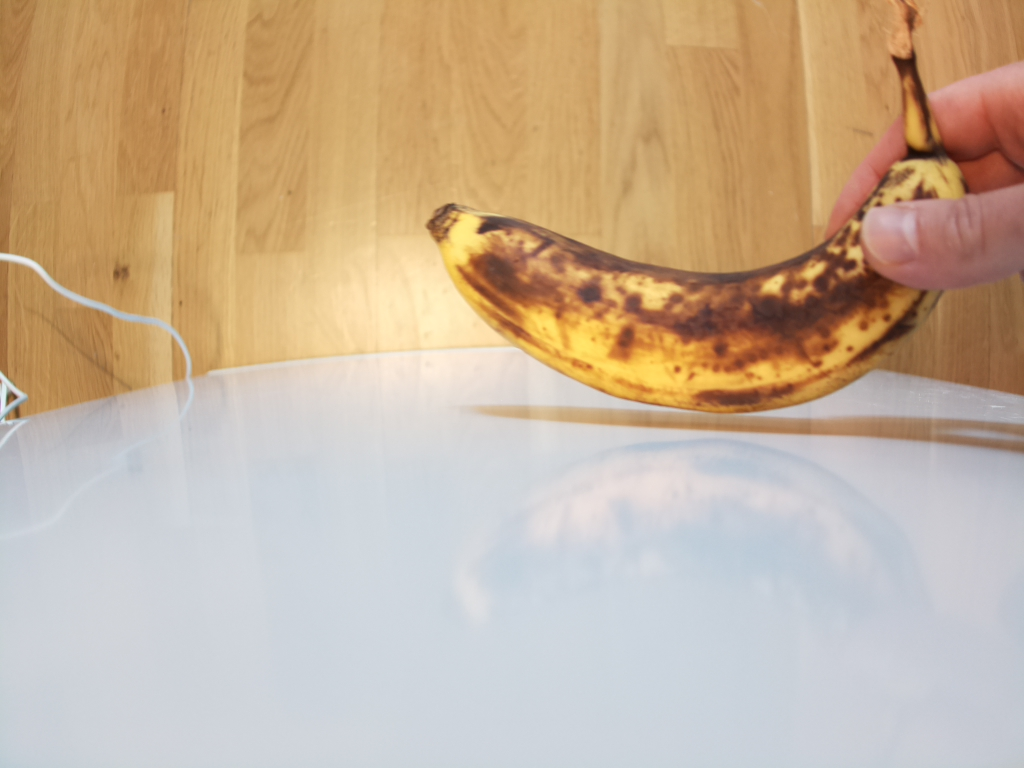banana-overripe: (426, 1, 975, 414)
